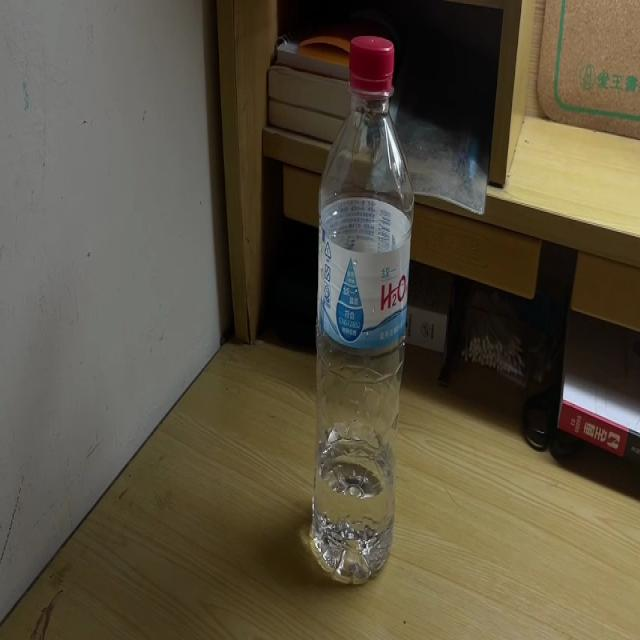Water: (311, 34, 415, 584)
